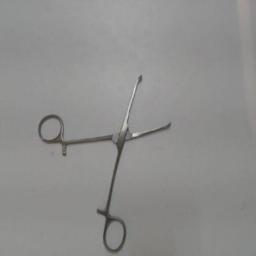Allis Tissue Forceps: (36, 70, 176, 254)
